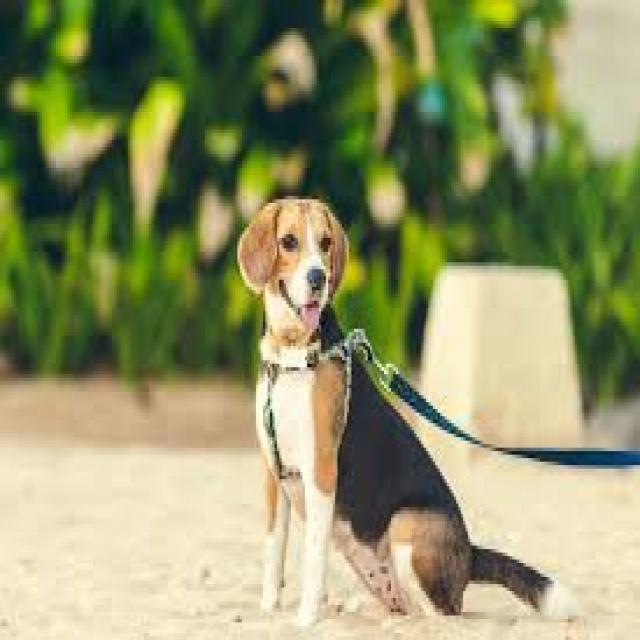Dog: (237, 194, 583, 617)
